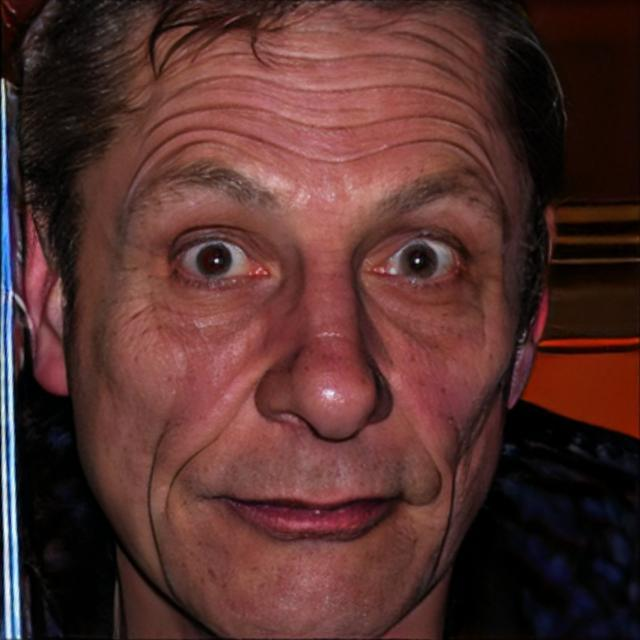surprise: (66, 0, 530, 640)
